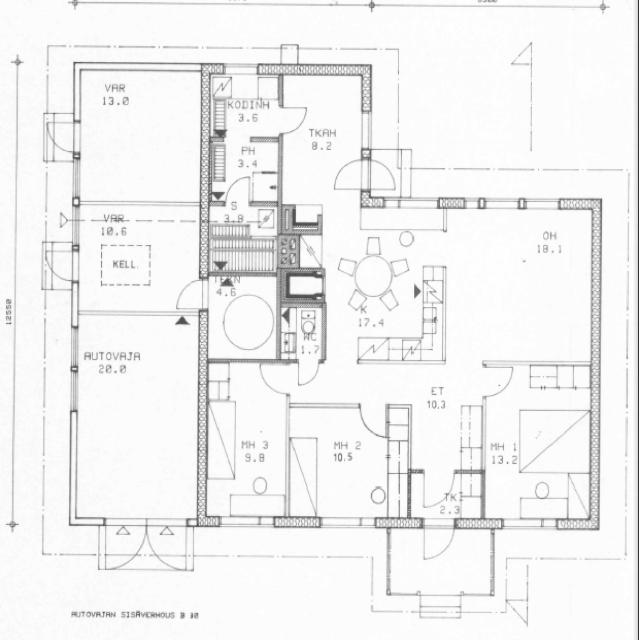door: (278, 68, 366, 231), (210, 70, 284, 140), (44, 113, 82, 159), (419, 468, 458, 511), (43, 242, 80, 287), (421, 518, 456, 562), (479, 360, 517, 400), (330, 154, 368, 193), (364, 157, 400, 198), (171, 276, 209, 313), (257, 360, 295, 396), (358, 403, 389, 441), (277, 103, 309, 136), (47, 209, 76, 243), (224, 175, 253, 204), (295, 359, 322, 388)
window: (367, 196, 441, 215), (216, 513, 276, 531), (499, 517, 566, 533), (318, 514, 377, 532), (358, 108, 375, 155), (67, 323, 81, 372), (67, 368, 82, 412), (70, 155, 84, 202), (479, 196, 520, 212), (523, 197, 562, 212), (221, 62, 261, 75)
zone: (442, 205, 599, 364), (76, 68, 203, 209), (328, 226, 444, 365), (483, 364, 594, 500), (278, 68, 365, 230), (204, 360, 288, 525), (287, 407, 400, 526), (75, 216, 200, 316), (207, 276, 279, 361), (206, 202, 279, 273), (497, 473, 597, 524), (208, 136, 280, 205), (208, 72, 282, 138), (280, 301, 326, 364), (327, 147, 367, 196), (214, 161, 259, 204)
